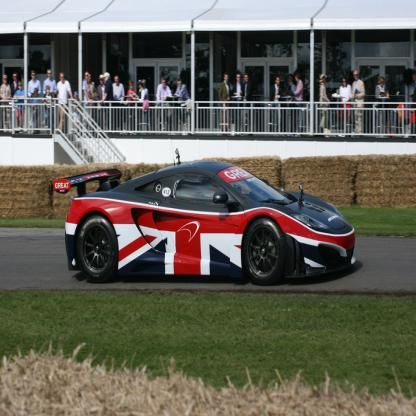Car: (45, 120, 356, 290)
